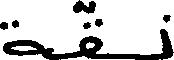X: (0, 15, 44, 59), (79, 0, 102, 59), (159, 10, 173, 59)
